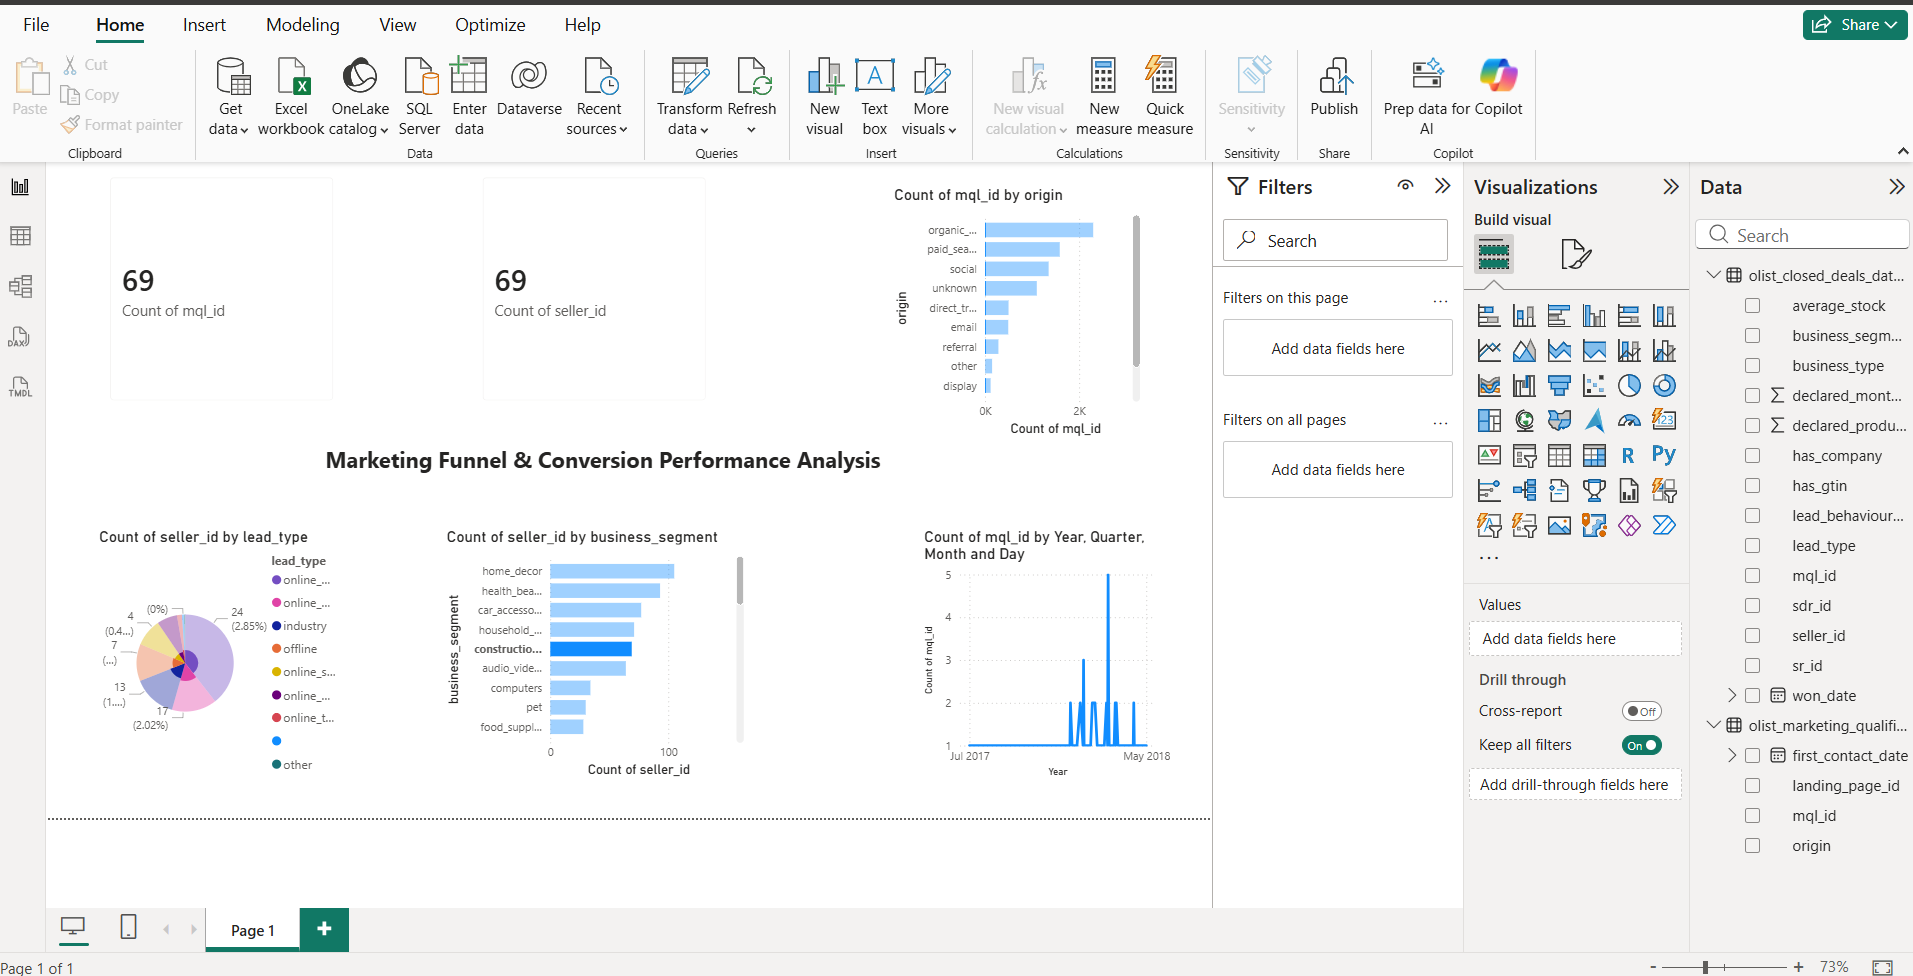

The dashboard page shown, as its layout file describes it:
{"tool":"powerbi","page":{"name":"Page 1","canvas":[1280,720],"ordinal":0},"visuals":[{"type":"cardVisual","fields":{"Data":["Count(olist_marketing_qualified_leads_dataset.mql_id)"]},"box":[53.5,0,279.9,279.9],"z":0},{"type":"cardVisual","fields":{"Data":["Count(olist_closed_deals_dataset.seller_id)"]},"box":[462.4,0,279.9,279.9],"z":1},{"type":"clusteredBarChart","fields":{"Category":["olist_marketing_qualified_leads_dataset.origin"],"Y":["CountNonNull(olist_marketing_qualified_leads_dataset.mql_id)"]},"box":[926.2,26.1,279.9,279.9],"z":2},{"type":"pieChart","fields":{"Category":["olist_closed_deals_dataset.lead_type"],"Y":["Count(olist_closed_deals_dataset.seller_id)"]},"box":[53.5,400.7,279.9,279.9],"z":3},{"type":"clusteredBarChart","fields":{"Category":["olist_closed_deals_dataset.business_segment"],"Y":["Count(olist_closed_deals_dataset.seller_id)"]},"box":[435,400.7,336.2,279.9],"z":4},{"type":"lineChart","fields":{"Y":["CountNonNull(olist_marketing_qualified_leads_dataset.mql_id)"],"Category":["olist_marketing_qualified_leads_dataset.first_contact_date.Variation.Date Hierarchy.Year","olist_marketing_qualified_leads_dataset.first_contact_date.Variation.Date Hierarchy.Quarter","olist_marketing_qualified_leads_dataset.first_contact_date.Variation.Date Hierarchy.Month","olist_marketing_qualified_leads_dataset.first_contact_date.Variation.Date Hierarchy.Day"]},"box":[959.2,400.7,279.9,279.9],"z":5},{"type":"textbox","box":[301.9,306,624.4,53.5],"z":6}]}

Visuals, with their boxes on the page's 1280x720 design canvas (x1, y1, x2, y2). These are canvas units, not pixel positions in the 1913x976 screenshot, which may show the page scaled, cropped or inside an application window:
cardVisual - Count(olist_marketing_qualified_leads_dataset.mql_id): pyautogui.locateOnScreen(54, 0, 333, 280)
cardVisual - Count(olist_closed_deals_dataset.seller_id): pyautogui.locateOnScreen(462, 0, 742, 280)
clusteredBarChart - olist_marketing_qualified_leads_dataset.origin x CountNonNull(olist_marketing_qualified_leads_dataset.mql_id): pyautogui.locateOnScreen(926, 26, 1206, 306)
pieChart - olist_closed_deals_dataset.lead_type x Count(olist_closed_deals_dataset.seller_id): pyautogui.locateOnScreen(54, 401, 333, 681)
clusteredBarChart - olist_closed_deals_dataset.business_segment x Count(olist_closed_deals_dataset.seller_id): pyautogui.locateOnScreen(435, 401, 771, 681)
lineChart - CountNonNull(olist_marketing_qualified_leads_dataset.mql_id) x olist_marketing_qualified_leads_dataset.first_contact_date.Variation.Date Hierarchy.Year: pyautogui.locateOnScreen(959, 401, 1239, 681)
textbox: pyautogui.locateOnScreen(302, 306, 926, 360)
